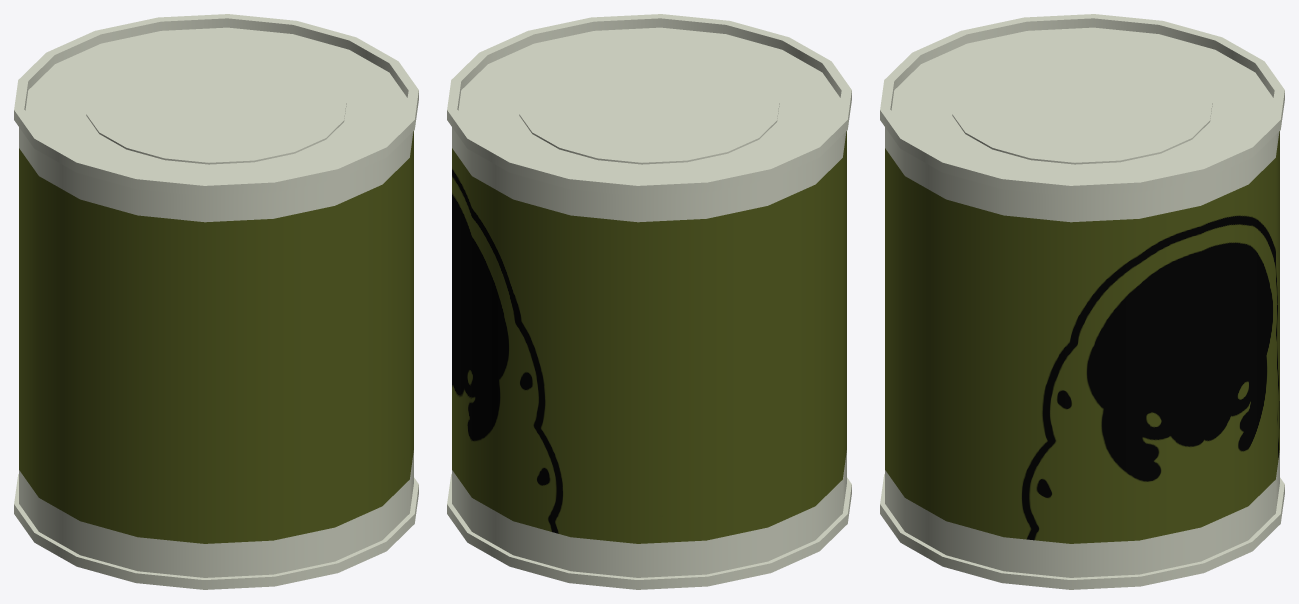
Rendered from protein_grub_embeded_textures.fbx.
The picture shows the model from 3 angles, left to right: view 1: azimuth 30°, elevation 25°; view 2: azimuth 150°, elevation 25°; view 3: azimuth 270°, elevation 25°; orthographic projection.
Parts seen in each view (by area): view 1: puszka wysoka.001; view 2: puszka wysoka.001; view 3: puszka wysoka.001.
Part boxes in pixels (bbox=[...]): puszka wysoka.001: bbox=[14, 14, 418, 589]; puszka wysoka.001: bbox=[447, 14, 851, 589]; puszka wysoka.001: bbox=[880, 14, 1284, 589].
Size of the model in its own units: 31.95 by 35 by 31.78.
Materials: 2 (1 with a texture image).
